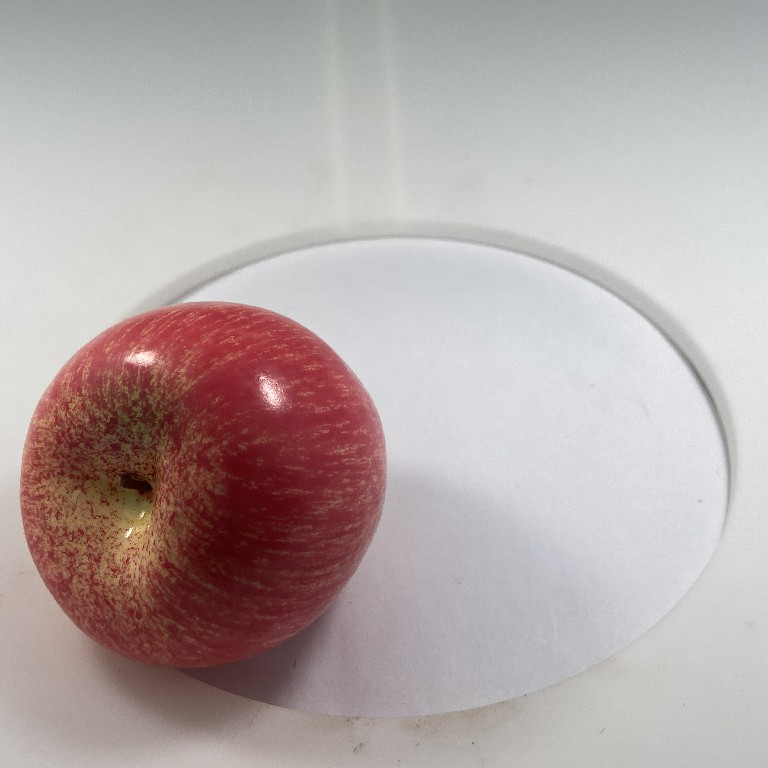fruit_apple: (15, 295, 390, 678)
